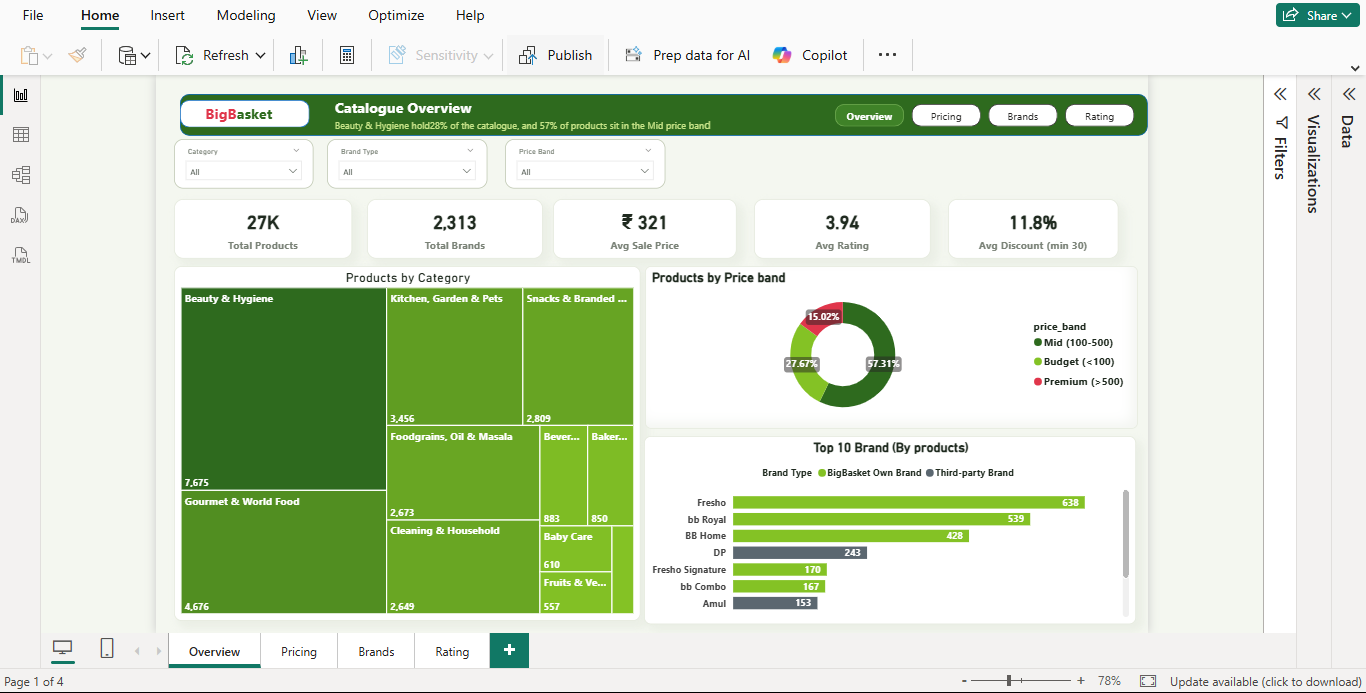

The page's visual inventory and layout, read from the dashboard file:
{"tool":"powerbi","page":{"name":"Overview","canvas":[1280,720],"ordinal":0},"visuals":[{"type":"shape","box":[31.2,24.1,1248.7,53.9],"z":0},{"type":"shape","box":[31.2,32.6,167.2,35.4],"z":1000},{"type":"textbox","box":[22.7,32.6,167.2,35.4],"z":2000},{"type":"textbox","box":[225.4,24.1,674.6,58.1],"z":3000},{"type":"slicer","fields":{"Values":["products.category"]},"box":[22.7,82.2,180,63.8],"z":4000},{"type":"slicer","fields":{"Values":["products.category"]},"box":[450.7,82.2,206.9,63.8],"z":5000},{"type":"slicer","title":"Brand Type","fields":{"Values":["products.brand_type"]},"box":[221.1,82.2,206.9,63.8],"z":6000},{"type":"pageNavigator","box":[876.1,37.4,388.4,29.7],"z":7000},{"type":"card","fields":{"Values":["products.Total Products"]},"box":[22.7,160.2,229.6,76.5],"z":8000},{"type":"card","fields":{"Values":["products.Total Brands"]},"box":[272.1,160.2,226.8,76.5],"z":9000},{"type":"card","fields":{"Values":["products.Avg Sale Price"]},"box":[511.7,160.2,236.7,76.5],"z":10000},{"type":"card","fields":{"Values":["products.Avg Rating"]},"box":[771,160.2,228.2,76.5],"z":11000},{"type":"card","fields":{"Values":["products.Avg Discount (min 30)"]},"box":[1021.9,160.2,219.7,76.5],"z":12000},{"type":"treemap","title":"Products by Category","fields":{"Group":["products.category"],"Values":["products.Total Products"]},"box":[22.7,246.6,602,457.8],"z":13000},{"type":"donutChart","title":"Products by Price band","fields":{"Y":["products.Total Products"],"Category":["products.price_band"]},"box":[630.7,246.6,636.4,209.8],"z":14000},{"type":"barChart","title":"Top 10 Brand (By products)","fields":{"Category":["products.brand"],"Y":["products.Total Products"],"Series":["products.brand_type"]},"box":[629.7,465.8,634.8,242.6],"z":15000}]}

Visuals, with their boxes on the page's 1280x720 design canvas (x1, y1, x2, y2). These are canvas units, not pixel positions in the 1366x693 screenshot, which may show the page scaled, cropped or inside an application window:
shape: locate(31, 24, 1280, 78)
shape: locate(31, 33, 198, 68)
textbox: locate(23, 33, 190, 68)
textbox: locate(225, 24, 900, 82)
slicer - products.category: locate(23, 82, 203, 146)
slicer - products.category: locate(451, 82, 658, 146)
"Brand Type" slicer: locate(221, 82, 428, 146)
pageNavigator: locate(876, 37, 1264, 67)
card - products.Total Products: locate(23, 160, 252, 237)
card - products.Total Brands: locate(272, 160, 499, 237)
card - products.Avg Sale Price: locate(512, 160, 748, 237)
card - products.Avg Rating: locate(771, 160, 999, 237)
card - products.Avg Discount (min 30): locate(1022, 160, 1242, 237)
"Products by Category" treemap: locate(23, 247, 625, 704)
"Products by Price band" donutChart: locate(631, 247, 1267, 456)
"Top 10 Brand (By products)" barChart: locate(630, 466, 1264, 708)
